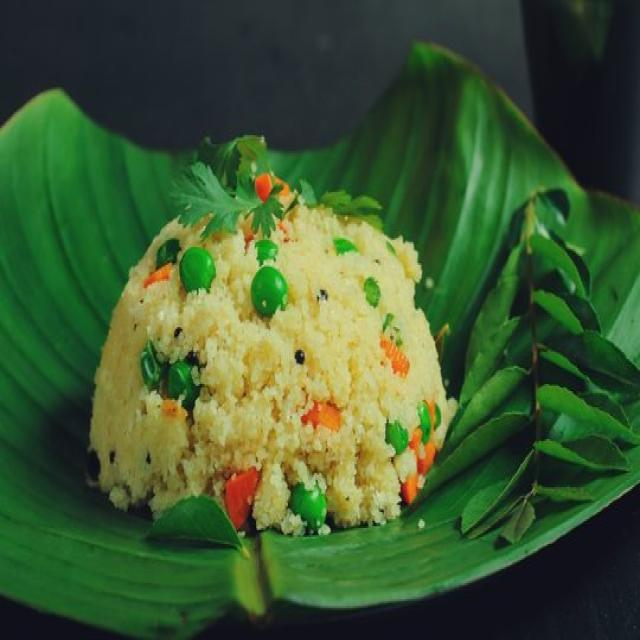UPMA: (90, 196, 455, 533)
